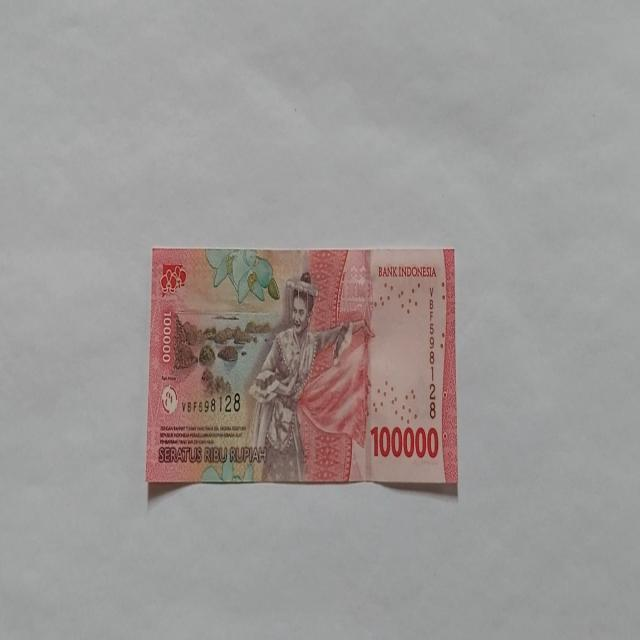seratus ribu rupiah: (145, 245, 458, 490), (247, 270, 366, 483)
